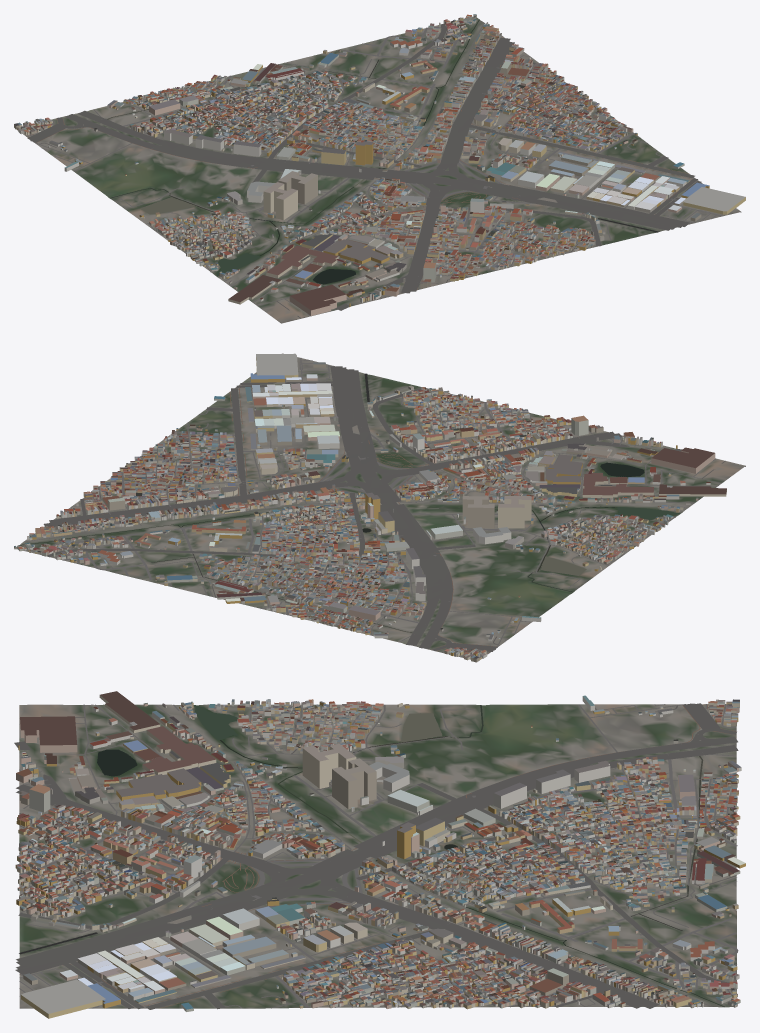
3 renders of one model, top to bottom at view 1: azimuth 30°, elevation 25°; view 2: azimuth 150°, elevation 25°; view 3: azimuth 270°, elevation 25°, orthographic. The views are drawn at different scales.
Parts seen in each view (by area): view 1: buildings, ground, roads, water; view 2: buildings, ground, roads, water; view 3: buildings, ground, roads, water.
Boxes of the visible parts, x1,y1,x2,y2 form: buildings: [14, 14, 745, 315]; ground: [15, 16, 741, 323]; roads: [26, 19, 722, 318]; water: [107, 19, 658, 284]; buildings: [14, 353, 726, 662]; ground: [14, 353, 745, 660]; roads: [23, 358, 725, 657]; water: [19, 373, 680, 632]; buildings: [15, 691, 745, 1018]; ground: [19, 704, 736, 1008]; roads: [14, 703, 738, 1009]; water: [19, 705, 724, 1007].
Size of the model in its own units: 1497 by 65.01 by 1431.
